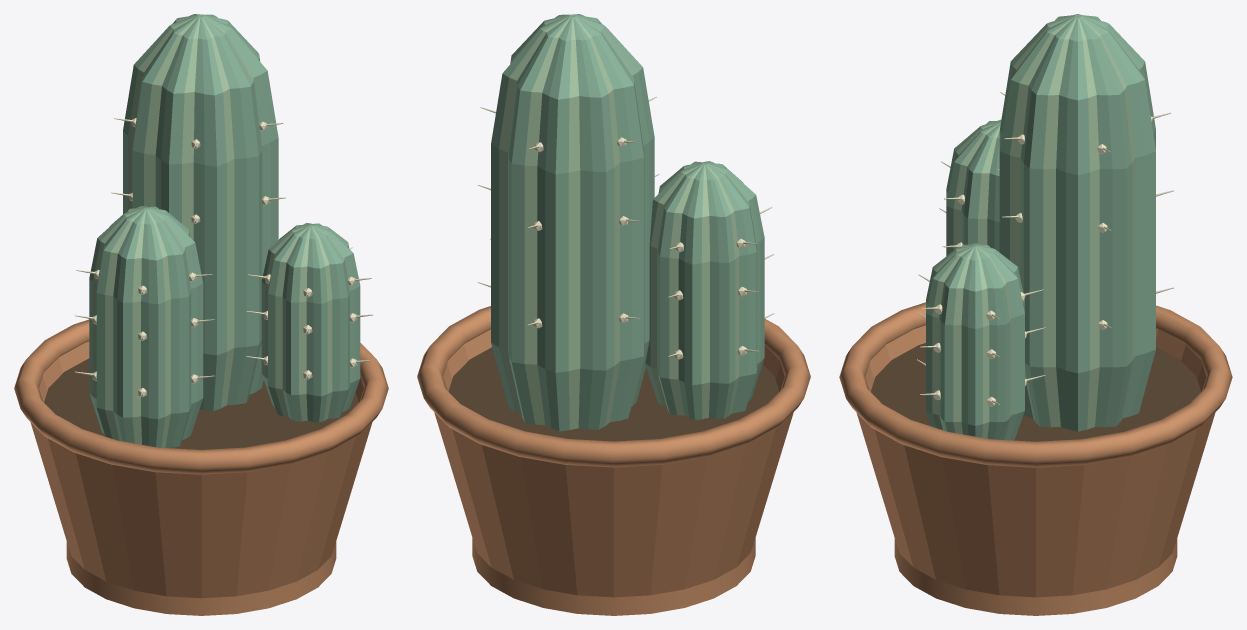
File: houseplant_clustered_cactus.glb
3 views of the same model, side by side, from view 1: azimuth 30°, elevation 25°; view 2: azimuth 150°, elevation 25°; view 3: azimuth 270°, elevation 25° (orthographic). The views are drawn at different scales.
Parts seen in each view (by area): view 1: Cactus_Tall_Column_Ribbed_Body, Clustered_Cactus_Open_Pot, Cactus_Left_Column_Ribbed_Body, Cactus_Right_Column_Ribbed_Body, Clustered_Cactus_Pot_Rim, Clustered_Cactus_Visible_Soil, Clustered_Cactus_Pot_Floor; view 2: Cactus_Tall_Column_Ribbed_Body, Clustered_Cactus_Open_Pot, Cactus_Left_Column_Ribbed_Body, Clustered_Cactus_Pot_Rim, Clustered_Cactus_Visible_Soil, Clustered_Cactus_Pot_Floor; view 3: Cactus_Tall_Column_Ribbed_Body, Clustered_Cactus_Open_Pot, Cactus_Right_Column_Ribbed_Body, Clustered_Cactus_Pot_Rim, Clustered_Cactus_Visible_Soil, Cactus_Left_Column_Ribbed_Body, Clustered_Cactus_Pot_Floor.
Boxes of the visible parts, <box> form: Cactus_Tall_Column_Ribbed_Body: <box>123,14,278,411</box>; Clustered_Cactus_Open_Pot: <box>30,341,372,598</box>; Cactus_Left_Column_Ribbed_Body: <box>89,206,203,447</box>; Cactus_Right_Column_Ribbed_Body: <box>261,223,360,422</box>; Clustered_Cactus_Pot_Rim: <box>14,319,388,474</box>; Clustered_Cactus_Visible_Soil: <box>44,358,358,449</box>; Clustered_Cactus_Pot_Floor: <box>66,541,336,615</box>; Cactus_Tall_Column_Ribbed_Body: <box>491,14,654,431</box>; Clustered_Cactus_Open_Pot: <box>434,329,793,597</box>; Cactus_Left_Column_Ribbed_Body: <box>645,161,764,419</box>; Clustered_Cactus_Pot_Rim: <box>417,306,810,467</box>; Clustered_Cactus_Visible_Soil: <box>448,347,779,441</box>; Clustered_Cactus_Pot_Floor: <box>472,538,755,615</box>; Cactus_Tall_Column_Ribbed_Body: <box>999,14,1155,431</box>; Clustered_Cactus_Open_Pot: <box>856,325,1215,597</box>; Cactus_Right_Column_Ribbed_Body: <box>926,243,1024,440</box>; Clustered_Cactus_Pot_Rim: <box>839,302,1232,467</box>; Clustered_Cactus_Visible_Soil: <box>871,343,1200,441</box>; Cactus_Left_Column_Ribbed_Body: <box>946,119,1001,255</box>; Clustered_Cactus_Pot_Floor: <box>894,538,1177,615</box>.
Size of the model in its own units: 0.422 by 0.651 by 0.422.
